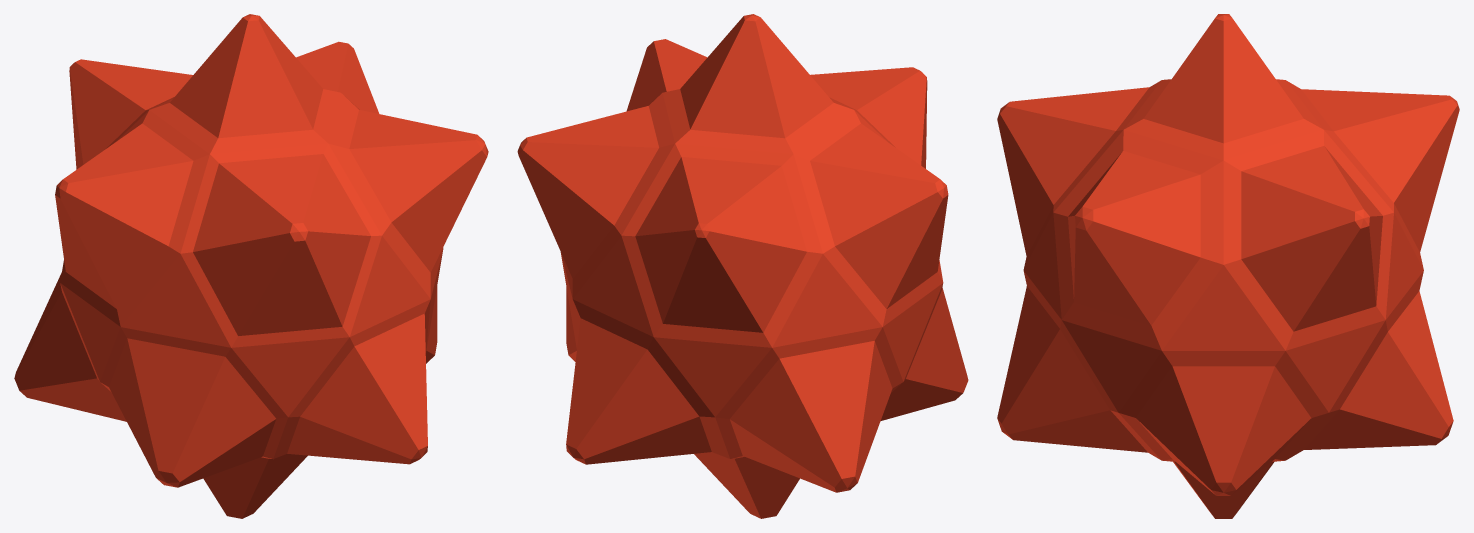
File: HairBall.fbx
3 renders of one model, left to right at view 1: azimuth 30°, elevation 25°; view 2: azimuth 150°, elevation 25°; view 3: azimuth 270°, elevation 25°, orthographic. The views are drawn at different scales.
Visible parts, largest first — view 1: HairBall; view 2: HairBall; view 3: HairBall.
Part boxes in pixels (box(x1,y1,x2,y2)): HairBall: box(14, 14, 488, 518); HairBall: box(517, 14, 968, 518); HairBall: box(997, 14, 1459, 518).
Bounding box in the file's own units: 222 × 280 × 231.
